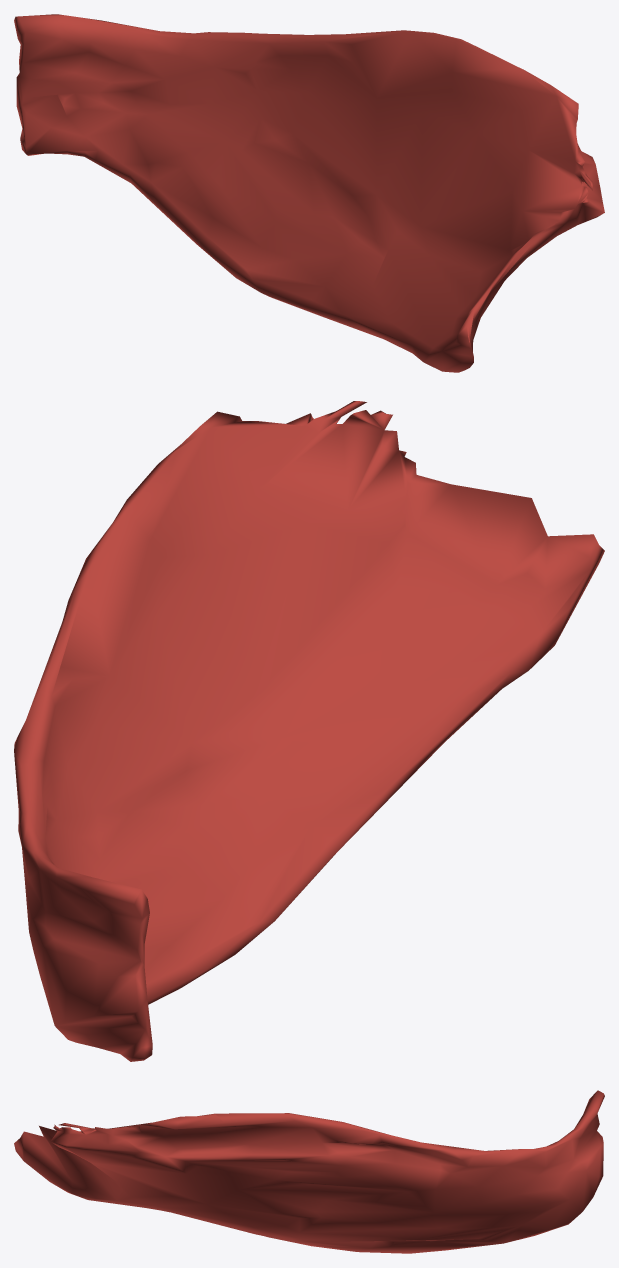
File: musculos-pubo-analis-muscle-l.glb
3 views of the same model, one above another, from view 1: azimuth 30°, elevation 25°; view 2: azimuth 150°, elevation 25°; view 3: azimuth 270°, elevation 25° (orthographic). The views are drawn at different scales.
Parts seen in each view (by area): view 1: Pubo-analis muscle.l; view 2: Pubo-analis muscle.l; view 3: Pubo-analis muscle.l.
Boxes of the visible parts, x1,y1,x2,y2 form: Pubo-analis muscle.l: [14, 14, 604, 372]; Pubo-analis muscle.l: [14, 401, 604, 1061]; Pubo-analis muscle.l: [14, 1090, 604, 1253].
Size of the model in its own units: 0.0304 by 0.0302 by 0.0843.
